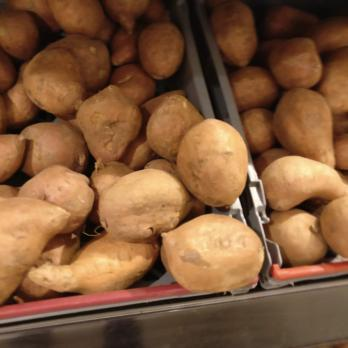Sweet potato: (1, 1, 181, 286), (219, 4, 348, 262), (170, 116, 262, 292)
